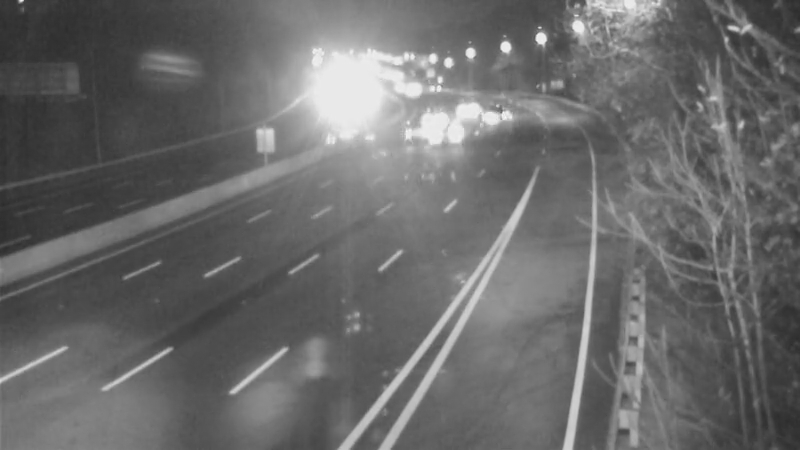vehicle: (435, 78, 485, 128), (409, 92, 459, 142), (469, 89, 519, 139), (387, 99, 437, 149), (421, 104, 471, 154)
